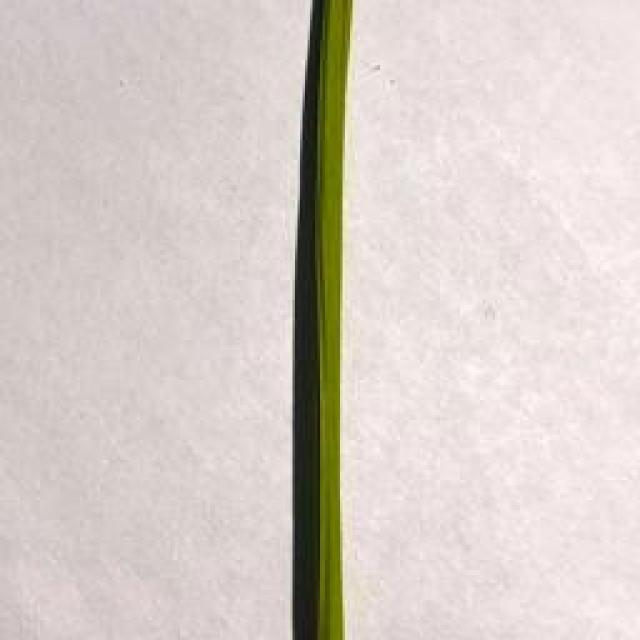Healthy-Plant: (275, 0, 373, 640)
